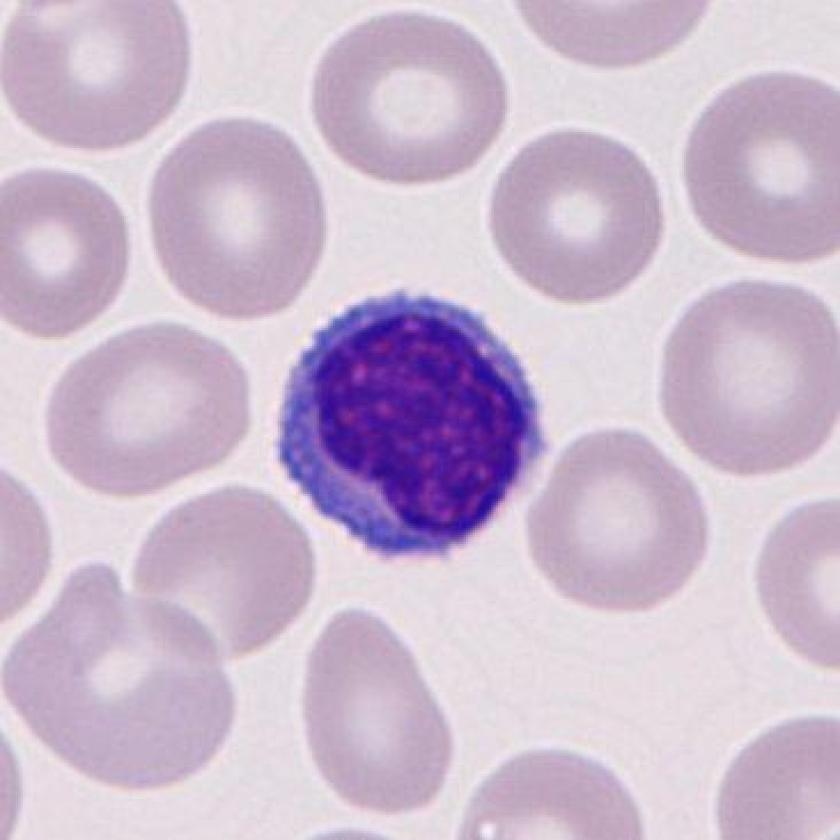lymphocyte: (270, 281, 561, 575)
